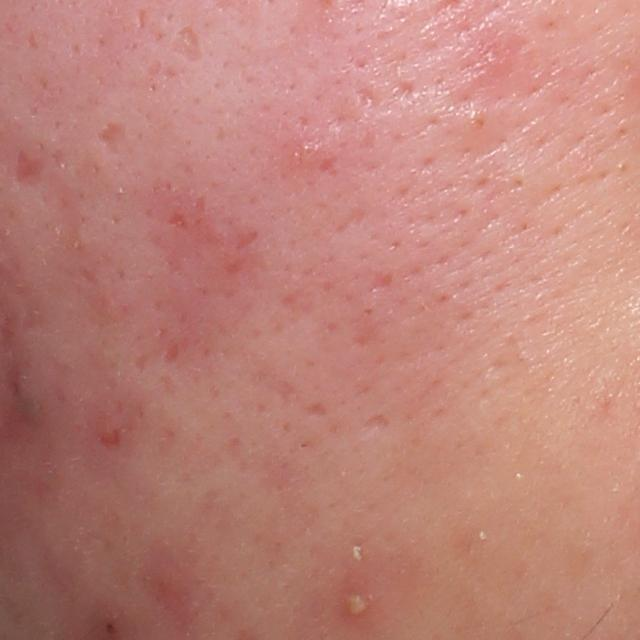atrophic_scar: (93, 119, 130, 160), (168, 23, 205, 62), (12, 148, 44, 188), (336, 205, 369, 234), (365, 269, 392, 293), (164, 209, 191, 232), (361, 413, 392, 430), (302, 404, 329, 418), (135, 7, 149, 30)
comedo: (465, 105, 494, 134)
pustule: (339, 580, 378, 628)
